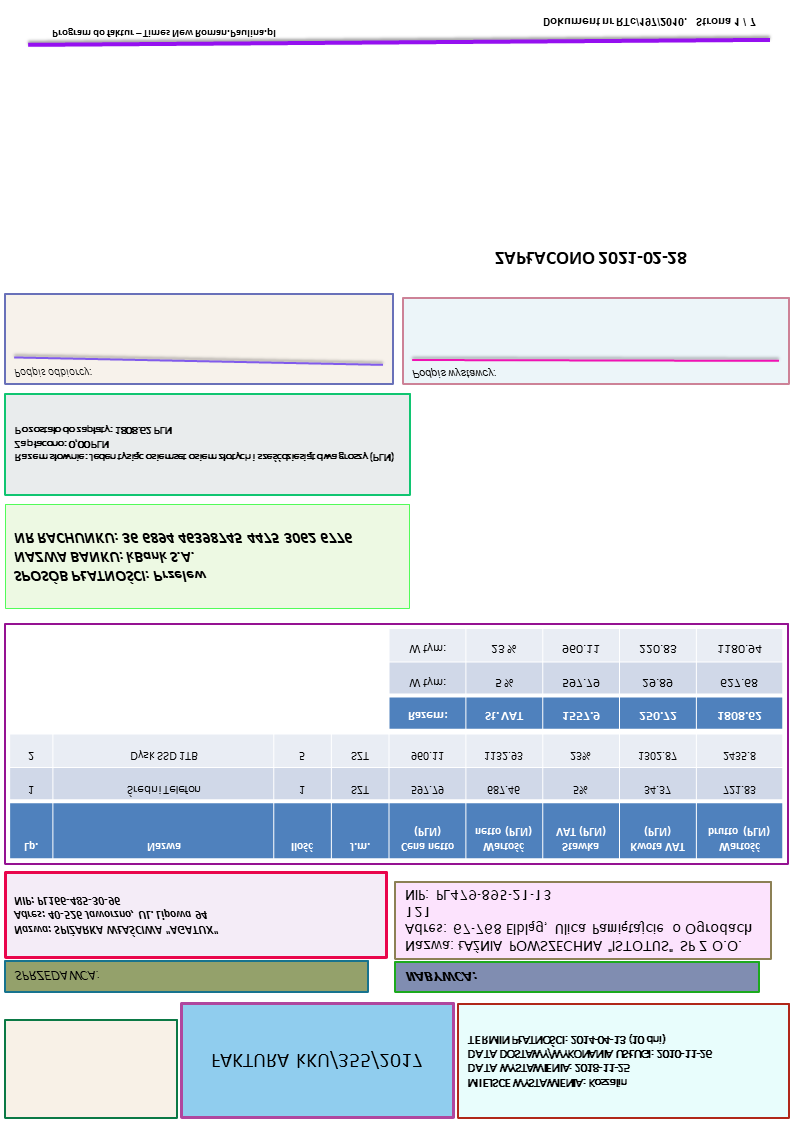Table: (8, 733, 783, 860), (388, 627, 785, 731)
TextBox: (401, 887, 753, 956), (10, 526, 354, 590), (12, 422, 399, 468), (465, 1031, 713, 1094), (11, 894, 220, 939), (209, 1048, 424, 1073), (493, 249, 689, 269), (541, 14, 761, 31), (48, 25, 279, 41), (11, 967, 101, 987), (410, 364, 499, 382), (11, 364, 93, 383), (403, 968, 479, 987)
